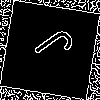J: (25, 25, 76, 72)
